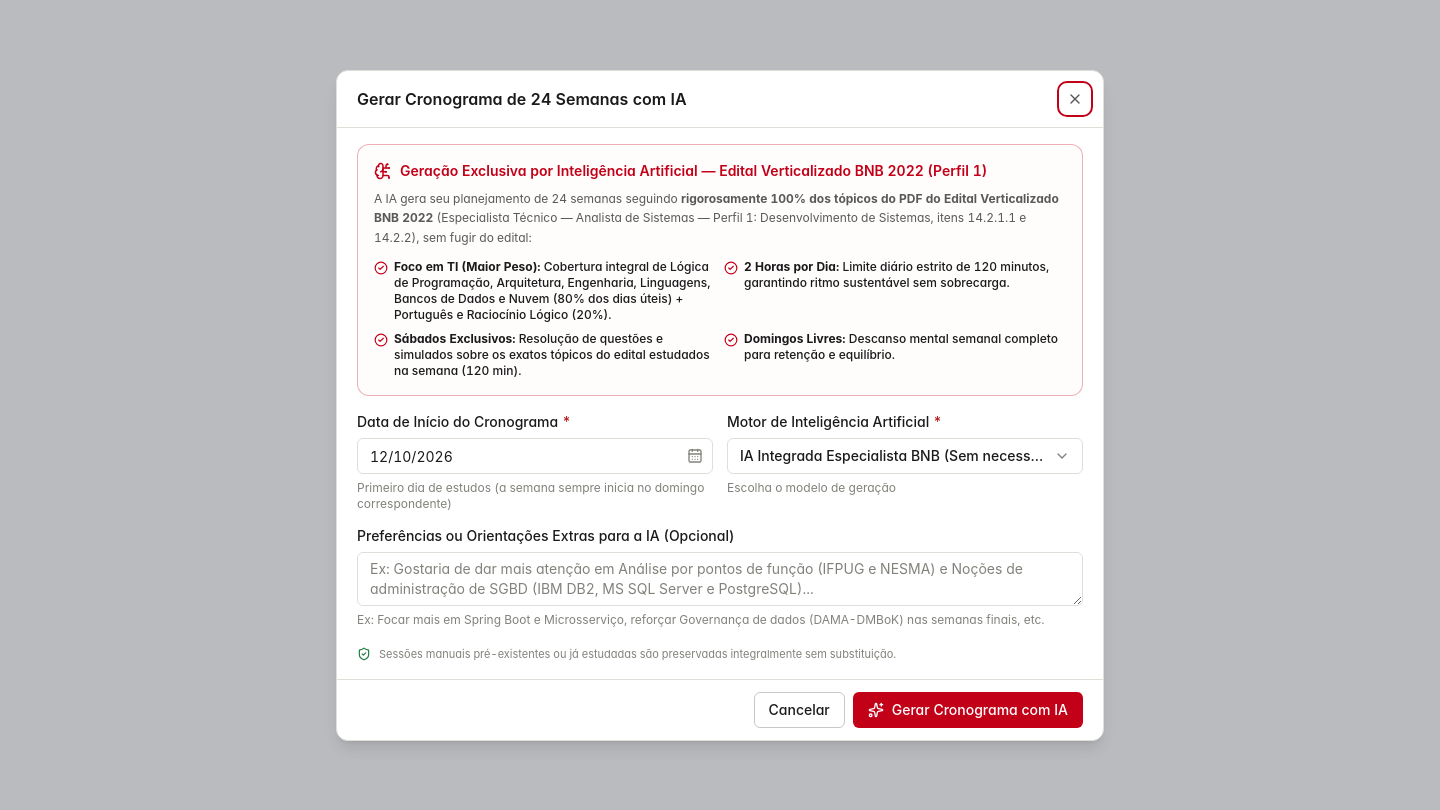
Test case: AiScheduleModal Component › shows Gemini API key field only when Google Gemini AI is selected
expect the field labelled "Chave de API Gemini" is not shown: met
# Select Gemini
Select "Google Gemini AI (Requer API Key)" in the dropdown labelled "Motor de Inteligência Artificial *": (834,422) [727,413,942,430]
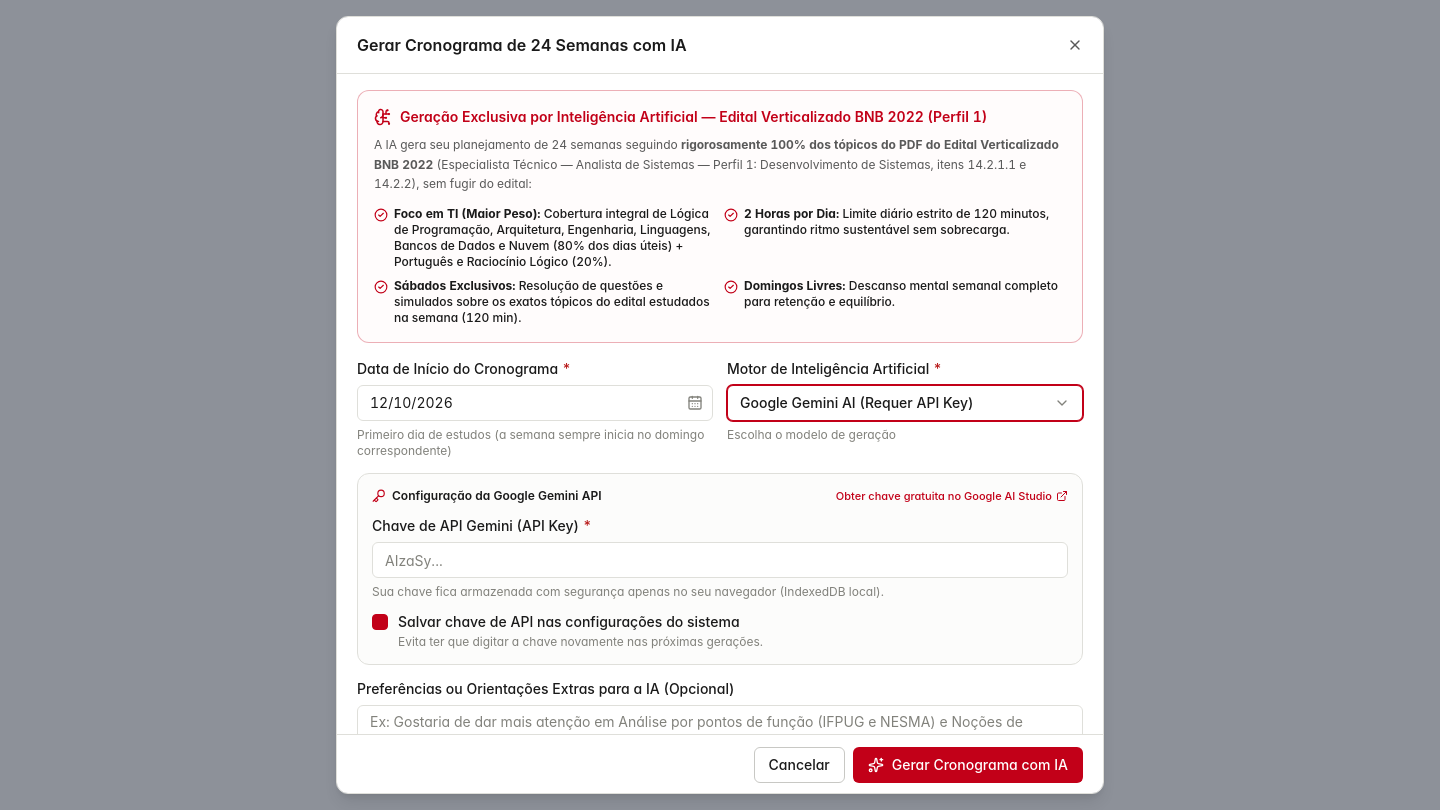
expect the password field labelled "Chave de API Gemini (API Key) *" is shown: met, box [372,542,1068,578]
expect the link "Obter chave gratuita no Google AI Studio" is shown: met, box [836,488,1068,504]
